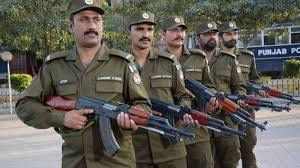gun: (40, 92, 173, 144), (139, 94, 235, 137), (182, 76, 264, 124), (251, 75, 300, 108), (229, 91, 288, 117)
uniform: (39, 51, 135, 159), (128, 50, 183, 156), (170, 47, 215, 155), (209, 48, 242, 164), (229, 48, 256, 164)
